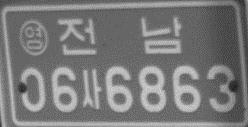0: (19, 66, 47, 114)
3: (206, 63, 236, 113)
6: (171, 64, 201, 114), (104, 64, 134, 112), (50, 66, 79, 113)
8: (136, 65, 168, 113)
사: (80, 68, 102, 111)
영: (18, 19, 48, 56)
전남_D: (56, 17, 182, 56)
